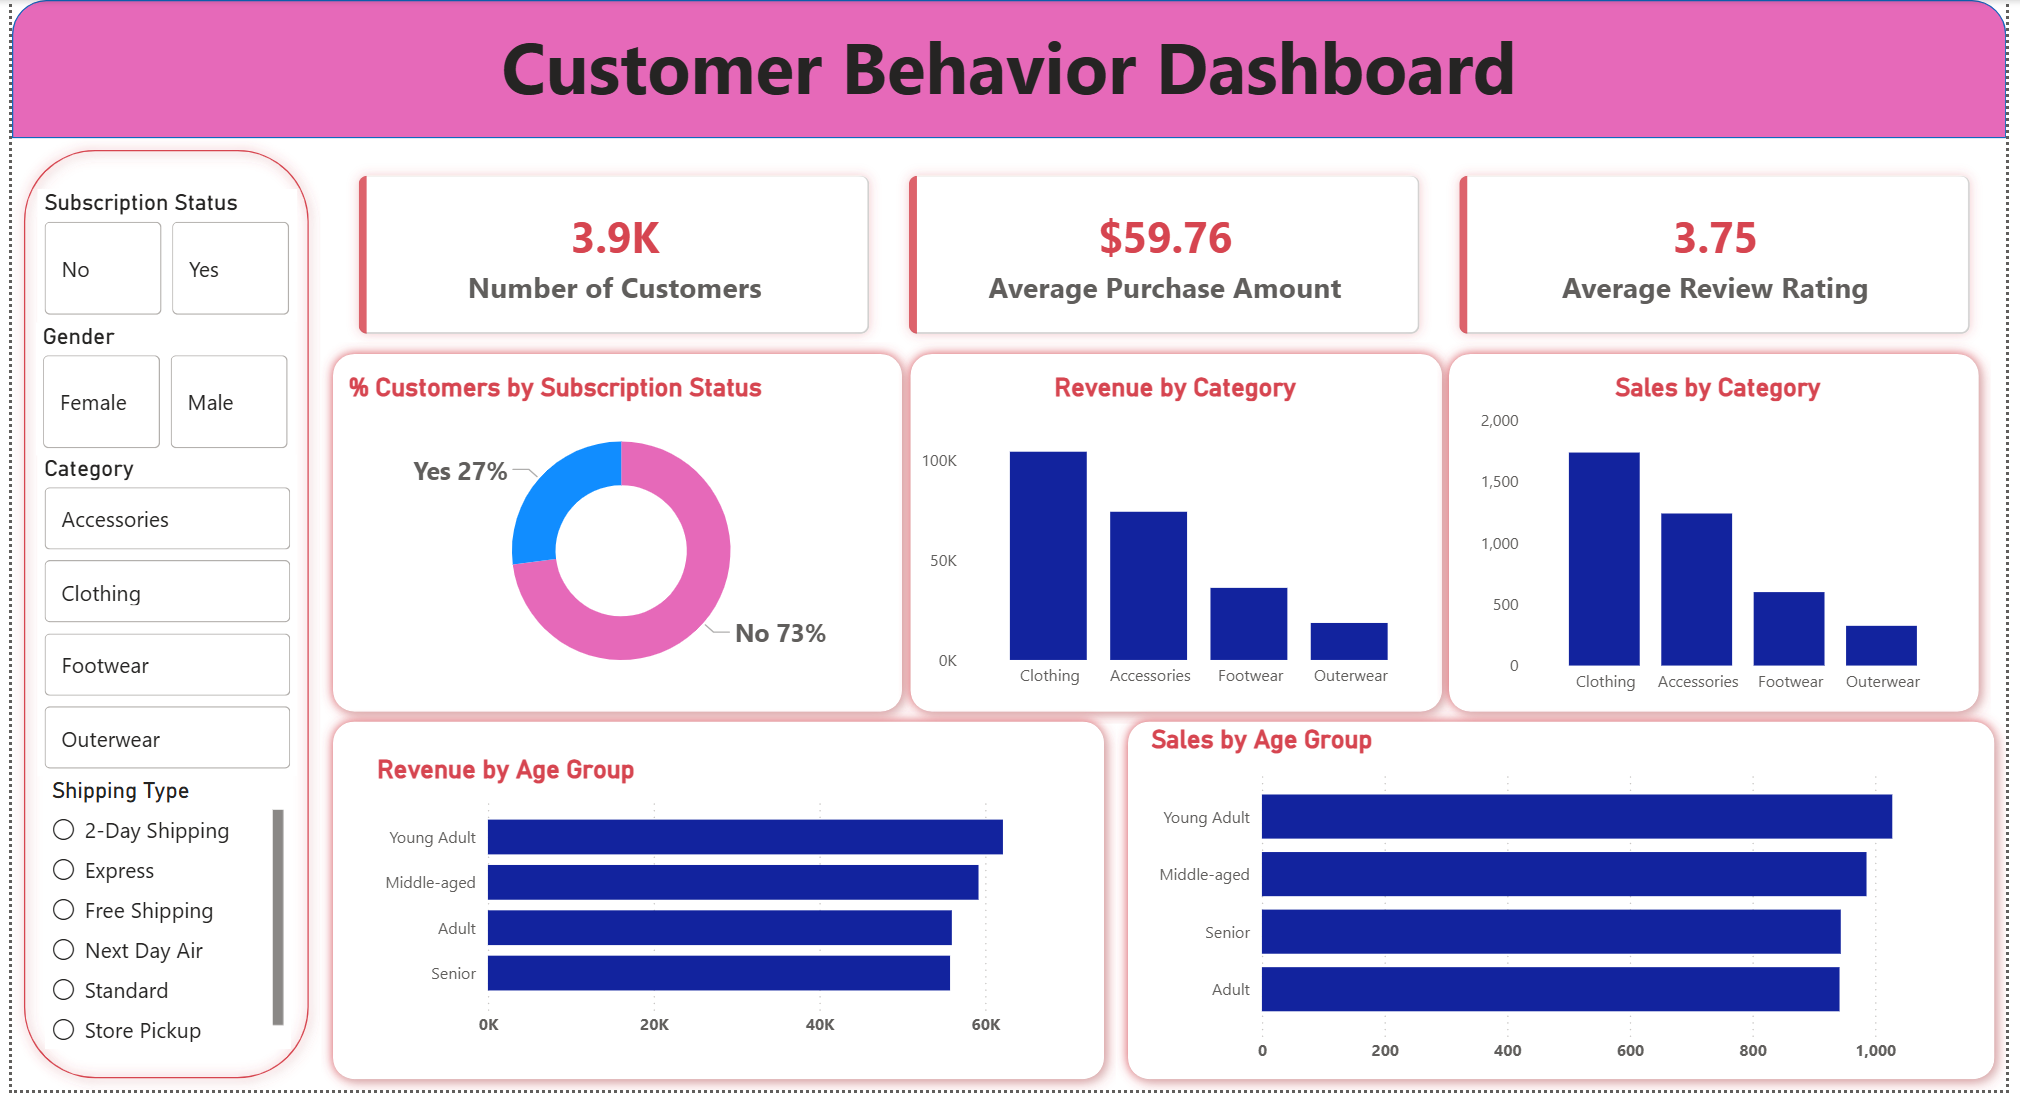

The dashboard page shown, as its layout file describes it:
{"tool":"powerbi","page":{"name":"Page 1","canvas":[1500,820],"ordinal":0},"visuals":[{"type":"cardVisual","fields":{"Data":["public customer.Number of Customers","public customer.Average Purchase Amount","public customer.Average Review Rating"]},"box":[232.2,104.1,1268.1,175.9],"z":0},{"type":"shape","box":[0,0,1500.3,104.1],"z":1000},{"type":"textbox","box":[0,8.4,1500.3,95.7],"z":2000},{"type":"shape","box":[232.2,257.6,446.1,287.1],"z":3000},{"type":"donutChart","title":"% Customers by Subscription Status","fields":{"Category":["public customer.subscription_status"],"Y":["Count(public customer.customer_id)"]},"box":[247.7,280.1,419.4,246.3],"z":4000},{"type":"shape","box":[667.1,257.6,418,287.1],"z":5000},{"type":"shape","box":[1072.4,257.6,416.6,287.1],"z":6000},{"type":"clusteredColumnChart","title":"Revenue by Category","fields":{"Y":["Sum(public customer.purchase_amount)"],"Category":["public customer.category"]},"box":[678.4,280.1,394.1,246.3],"z":7000},{"type":"clusteredColumnChart","title":"Sales by Category","fields":{"Y":["CountNonNull(public customer.customer_id)"],"Category":["public customer.category"]},"box":[1099.2,280.1,368.7,250.5],"z":8000},{"type":"shape","box":[0,104.1,232.2,716.4],"z":9000},{"type":"advancedSlicerVisual","fields":{"Values":["public customer.subscription_status"]},"box":[19.7,142.1,195.6,99.9],"z":10000},{"type":"advancedSlicerVisual","fields":{"Values":["public customer.gender"]},"box":[18.3,242.1,195.6,99.9],"z":11000},{"type":"advancedSlicerVisual","fields":{"Values":["public customer.category"]},"box":[19.7,342,195.6,242.1],"z":12000},{"type":"listSlicer","fields":{"Values":["public customer.shipping_type"]},"box":[25.3,584.1,184.4,204.1],"z":13000},{"type":"shape","box":[830.4,533.4,669.9,287.1],"z":14000},{"type":"clusteredBarChart","title":"Sales by Age Group","fields":{"Y":["CountNonNull(public customer.customer_id)"],"Category":["public customer.age_group"]},"box":[851.5,544.7,616.4,263.2],"z":16000},{"type":"shape","box":[232.2,533.4,598.1,287.1],"z":16500},{"type":"clusteredBarChart","title":"Revenue by Age Group","fields":{"Y":["Sum(public customer.purchase_amount)"],"Category":["public customer.age_group"]},"box":[270.2,567.2,540.4,221],"z":17000}]}

Visuals, with their boxes in screenshot pixels (x1, y1, x2, y2), scaled from the page's 1500x820 canvas onto the 2020x1099 screenshot:
cardVisual - public customer.Number of Customers x public customer.Average Purchase Amount: (x1=313, y1=140, x2=2019, y2=375)
shape: (x1=0, y1=0, x2=2019, y2=140)
textbox: (x1=0, y1=11, x2=2019, y2=140)
shape: (x1=313, y1=345, x2=913, y2=730)
"% Customers by Subscription Status" donutChart: (x1=334, y1=375, x2=898, y2=706)
shape: (x1=898, y1=345, x2=1461, y2=730)
shape: (x1=1444, y1=345, x2=2005, y2=730)
"Revenue by Category" clusteredColumnChart: (x1=914, y1=375, x2=1444, y2=706)
"Sales by Category" clusteredColumnChart: (x1=1480, y1=375, x2=1977, y2=711)
shape: (x1=0, y1=140, x2=313, y2=1098)
advancedSlicerVisual - public customer.subscription_status: (x1=27, y1=190, x2=290, y2=324)
advancedSlicerVisual - public customer.gender: (x1=25, y1=324, x2=288, y2=458)
advancedSlicerVisual - public customer.category: (x1=27, y1=458, x2=290, y2=783)
listSlicer - public customer.shipping_type: (x1=34, y1=783, x2=282, y2=1056)
shape: (x1=1118, y1=715, x2=2019, y2=1098)
"Sales by Age Group" clusteredBarChart: (x1=1147, y1=730, x2=1977, y2=1083)
shape: (x1=313, y1=715, x2=1118, y2=1098)
"Revenue by Age Group" clusteredBarChart: (x1=364, y1=760, x2=1092, y2=1056)
